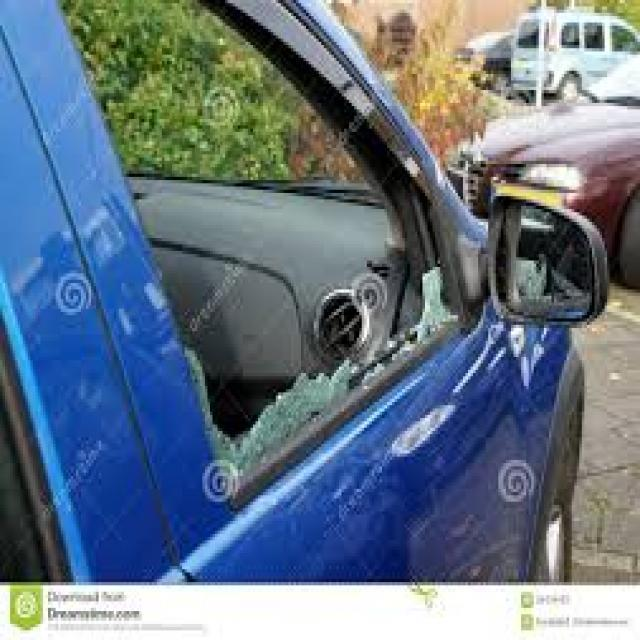damaged-window: (56, 0, 478, 499)
